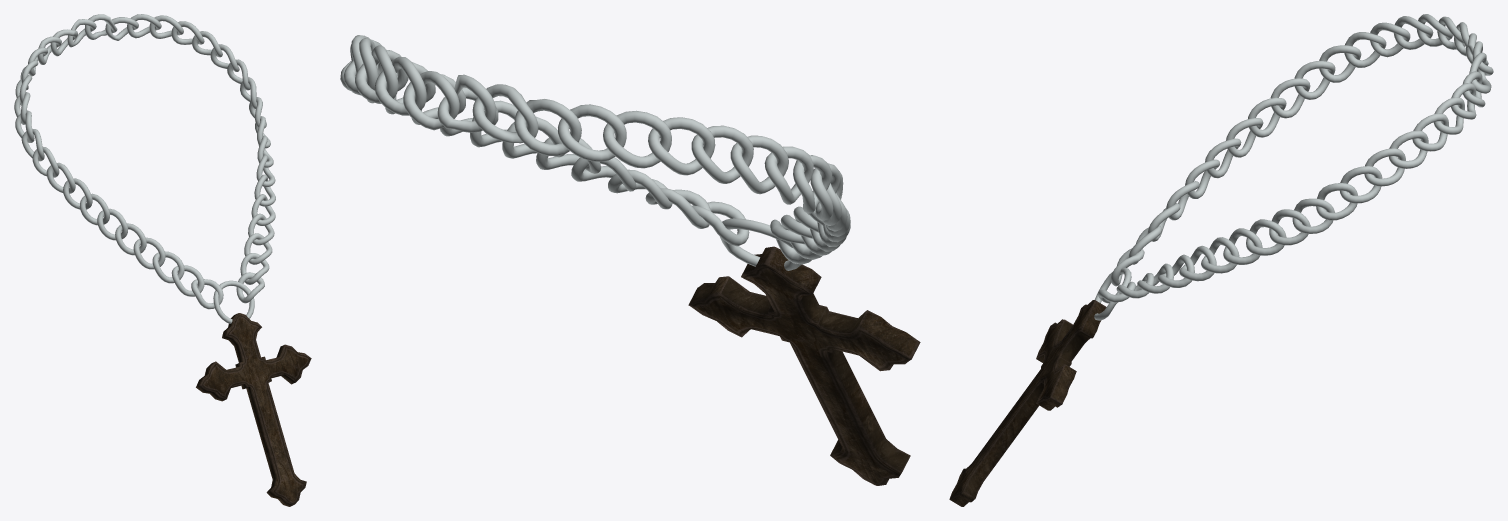
Rendered from CrossNecklace.fbx.
The picture shows the model from 3 angles, left to right: view 1: azimuth 30°, elevation 25°; view 2: azimuth 150°, elevation 25°; view 3: azimuth 270°, elevation 25°; orthographic projection. The views are drawn at different scales.
Parts seen in each view (by area): view 1: Cross1; view 2: Cross1; view 3: Cross1.
Part boxes in pixels (x1,y1,x2,y2): Cross1: (14, 14, 311, 506); Cross1: (340, 35, 920, 485); Cross1: (949, 14, 1493, 506).
Size of the model in its own units: 17.49 by 27.38 by 25.34.
